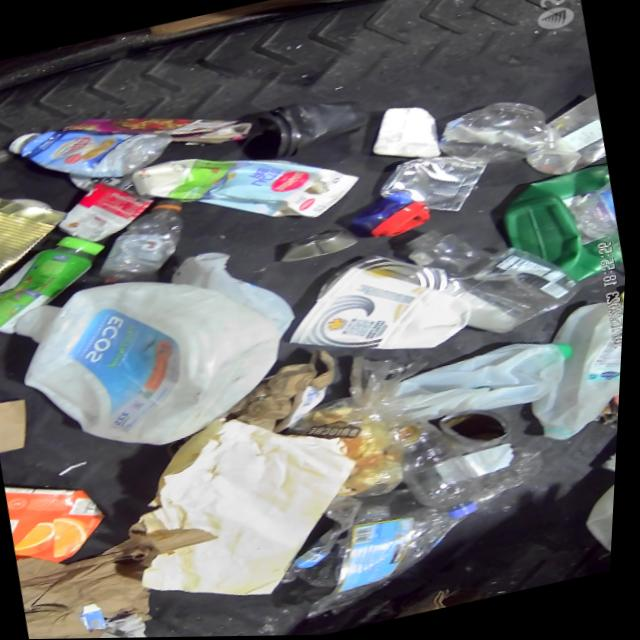can: (311, 240, 454, 319), (373, 144, 498, 230), (0, 168, 81, 292), (49, 170, 164, 251), (437, 401, 522, 461), (278, 225, 360, 266), (597, 426, 622, 482)
milk_jug: (5, 249, 304, 474), (391, 331, 587, 433), (164, 235, 305, 360), (514, 298, 628, 448), (579, 466, 621, 573)
non_white_jug: (129, 120, 371, 256), (494, 165, 630, 298), (5, 464, 122, 574)
plastic_bottle: (401, 200, 591, 353), (388, 412, 488, 532), (270, 492, 382, 586), (89, 197, 198, 286), (515, 94, 612, 184), (0, 143, 15, 187)
